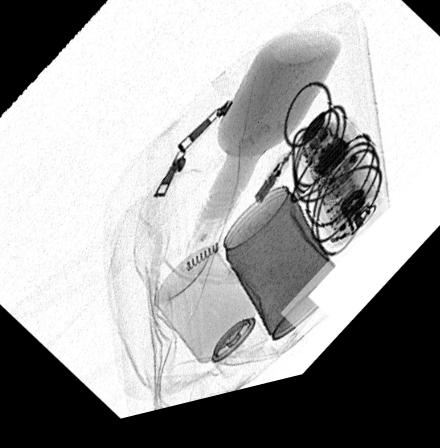Sprayer: (154, 256, 267, 390)
